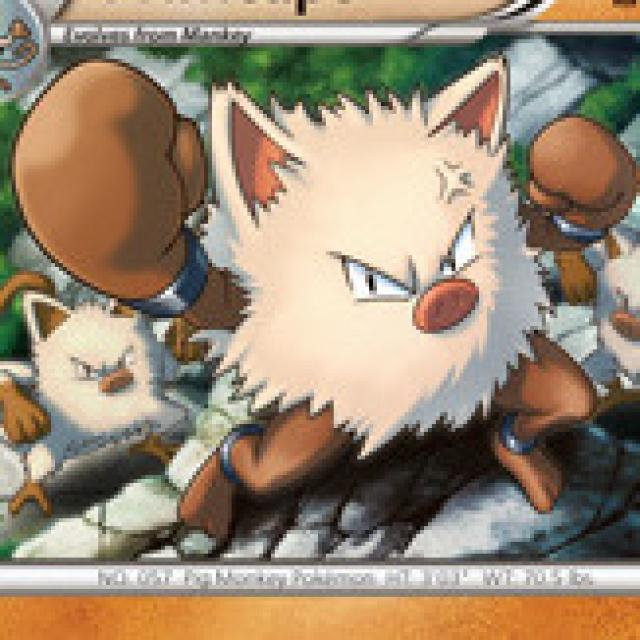Mankey: (0, 308, 184, 509)
Primeape: (133, 76, 591, 474)
